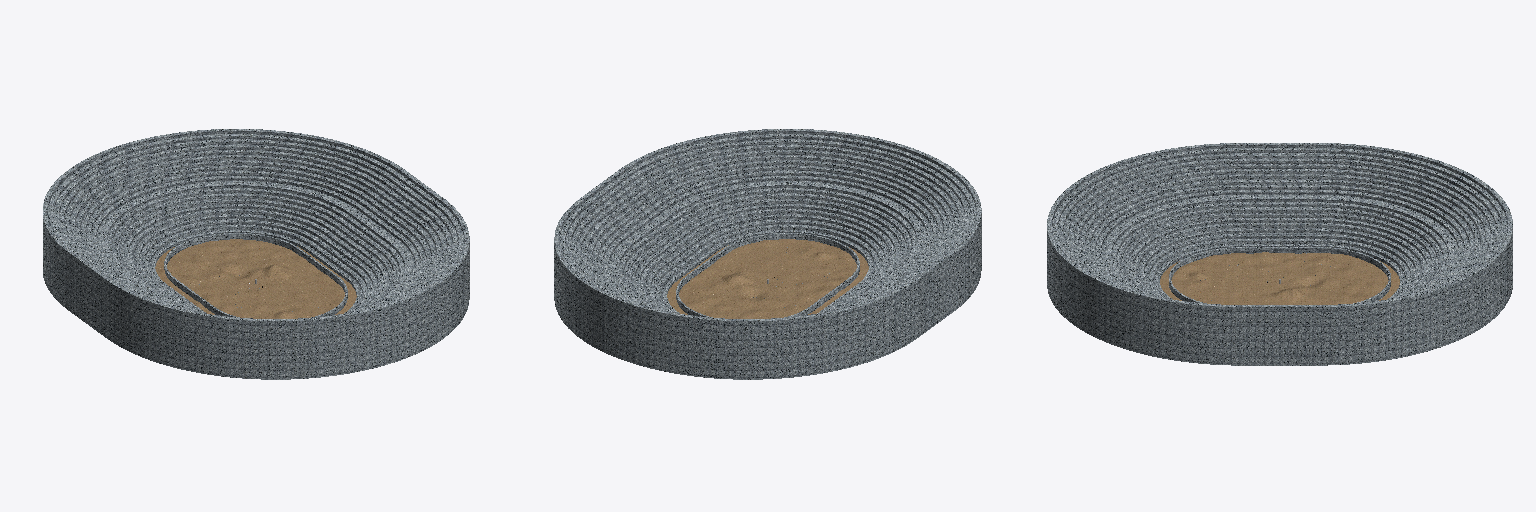
3 renders of one model, left to right at view 1: azimuth 30°, elevation 25°; view 2: azimuth 150°, elevation 25°; view 3: azimuth 270°, elevation 25°, orthographic.
Parts seen in each view (by area): view 1: Stands_Plane.003, Ground_Plane; view 2: Stands_Plane.003, Ground_Plane; view 3: Stands_Plane.003, Ground_Plane.
Part boxes in pixels (x1,y1,x2,y2): Stands_Plane.003: (43,129,469,379); Ground_Plane: (155,239,356,318); Stands_Plane.003: (554,129,981,379); Ground_Plane: (667,239,868,318); Stands_Plane.003: (1047,143,1512,365); Ground_Plane: (1160,252,1399,304).
Bounding box in the file's own units: 168 × 29.52 × 201.
Materials: 5 (3 with a texture image).